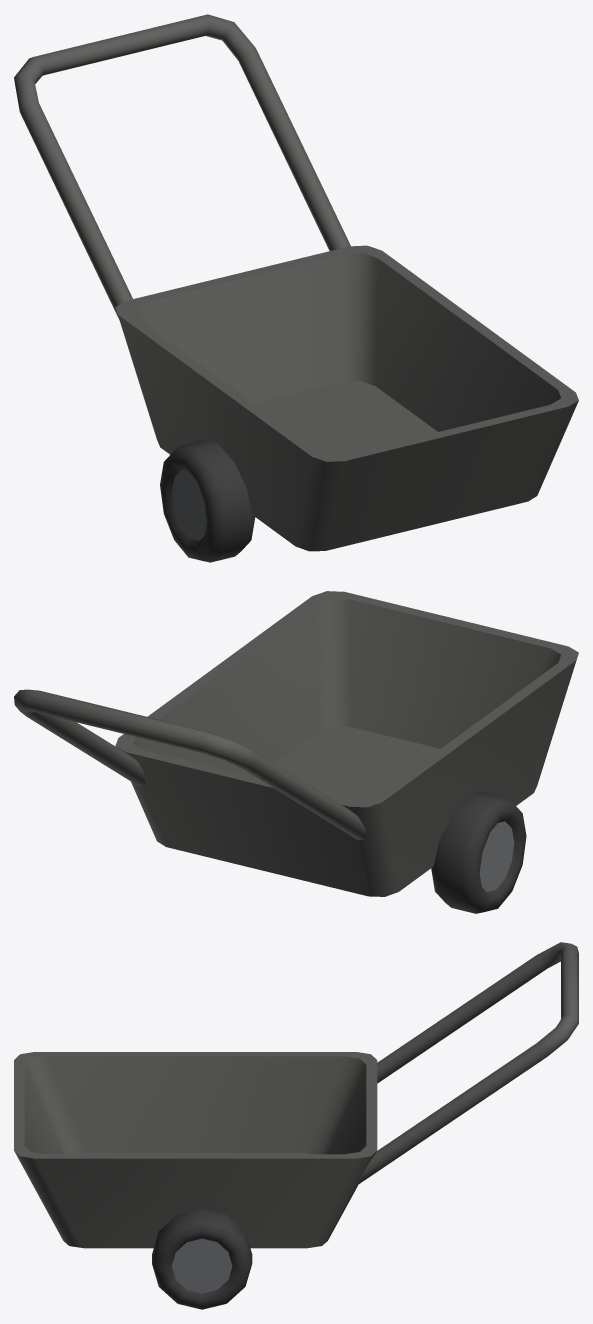
File: GardenCart_1.fbx
3 views of the same model, one above another, from view 1: azimuth 30°, elevation 25°; view 2: azimuth 150°, elevation 25°; view 3: azimuth 270°, elevation 25° (orthographic). The views are drawn at different scales.
Parts seen in each view (by area): view 1: GardenCart_1; view 2: GardenCart_1; view 3: GardenCart_1.
Part boxes in pixels (x1,y1,x2,y2): GardenCart_1: (14,14,578,562); GardenCart_1: (14,591,578,913); GardenCart_1: (14,942,578,1309).
Size of the model in its own units: 101 by 97.93 by 186.
